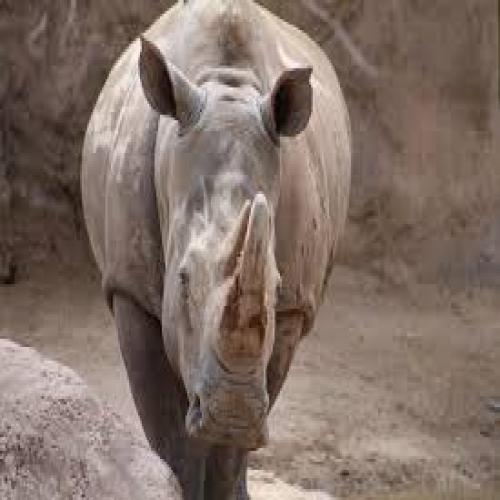rhino-endangered: (75, 4, 358, 498)
